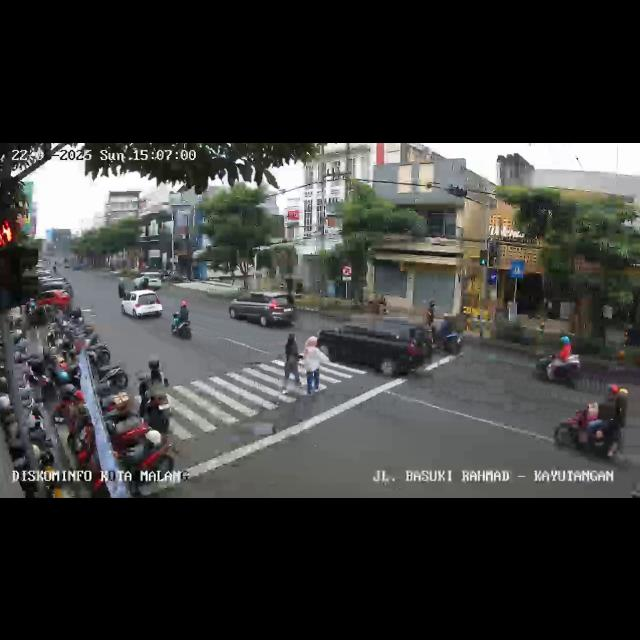car: (313, 314, 437, 378), (229, 289, 295, 329), (120, 288, 164, 322), (33, 276, 73, 312), (134, 270, 166, 288)
motorcycle: (564, 384, 636, 464), (532, 332, 584, 392), (138, 356, 174, 436), (170, 300, 196, 342)
person: (302, 334, 331, 394), (282, 331, 300, 391)
